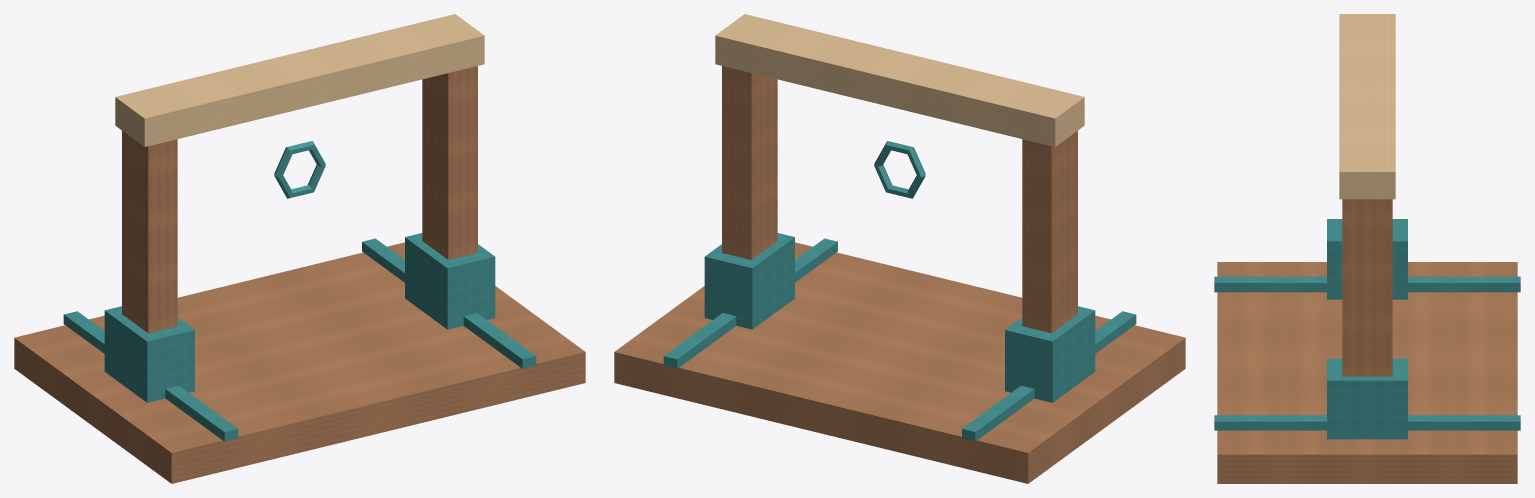
Rendered from atlas100-s096-a02.lod2.glb.
The picture shows the model from 3 angles, left to right: view 1: azimuth 30°, elevation 25°; view 2: azimuth 150°, elevation 25°; view 3: azimuth 270°, elevation 25°; orthographic projection. The views are drawn at different scales.
Visible parts, largest first — view 1: atlas100-s096-a02:part-000, atlas100-s096-a02:part-007, atlas100-s096-a02:part-003, atlas100-s096-a02:part-005, atlas100-s096-a02:part-004, atlas100-s096-a02:part-006, atlas100-s096-a02:part-002, atlas100-s096-a02:part-001, atlas100-s096-a02:part-009; view 2: atlas100-s096-a02:part-000, atlas100-s096-a02:part-007, atlas100-s096-a02:part-003, atlas100-s096-a02:part-005, atlas100-s096-a02:part-004, atlas100-s096-a02:part-006, atlas100-s096-a02:part-002, atlas100-s096-a02:part-001, atlas100-s096-a02:part-009; view 3: atlas100-s096-a02:part-000, atlas100-s096-a02:part-007, atlas100-s096-a02:part-005, atlas100-s096-a02:part-006, atlas100-s096-a02:part-001, atlas100-s096-a02:part-002, atlas100-s096-a02:part-004.
Boxes of the visible parts, <box> form: atlas100-s096-a02:part-000: <box>14,242,585,483</box>; atlas100-s096-a02:part-007: <box>115,14,484,146</box>; atlas100-s096-a02:part-003: <box>122,131,177,333</box>; atlas100-s096-a02:part-005: <box>422,66,477,259</box>; atlas100-s096-a02:part-004: <box>104,306,194,402</box>; atlas100-s096-a02:part-006: <box>405,233,495,329</box>; atlas100-s096-a02:part-002: <box>362,238,536,368</box>; atlas100-s096-a02:part-001: <box>63,311,237,441</box>; atlas100-s096-a02:part-009: <box>274,141,325,198</box>; atlas100-s096-a02:part-000: <box>614,242,1185,483</box>; atlas100-s096-a02:part-007: <box>715,14,1084,146</box>; atlas100-s096-a02:part-003: <box>1022,131,1077,333</box>; atlas100-s096-a02:part-005: <box>722,66,777,259</box>; atlas100-s096-a02:part-004: <box>1005,306,1095,402</box>; atlas100-s096-a02:part-006: <box>704,233,794,329</box>; atlas100-s096-a02:part-002: <box>663,238,837,368</box>; atlas100-s096-a02:part-001: <box>962,311,1136,441</box>; atlas100-s096-a02:part-009: <box>874,141,925,198</box>; atlas100-s096-a02:part-000: <box>1217,262,1517,483</box>; atlas100-s096-a02:part-007: <box>1339,14,1395,199</box>; atlas100-s096-a02:part-005: <box>1342,199,1392,376</box>; atlas100-s096-a02:part-006: <box>1327,358,1407,439</box>; atlas100-s096-a02:part-001: <box>1214,276,1520,292</box>; atlas100-s096-a02:part-002: <box>1214,415,1520,430</box>; atlas100-s096-a02:part-004: <box>1327,219,1407,299</box>.
Bounding box in the file's own units: 3.64 × 2.6 × 2.45.
Materials: 3 (3 with a texture image).
